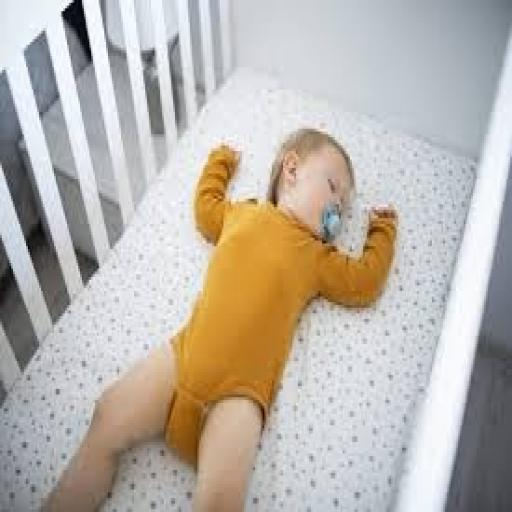baby: (45, 129, 396, 511)
crib: (0, 0, 511, 511)
